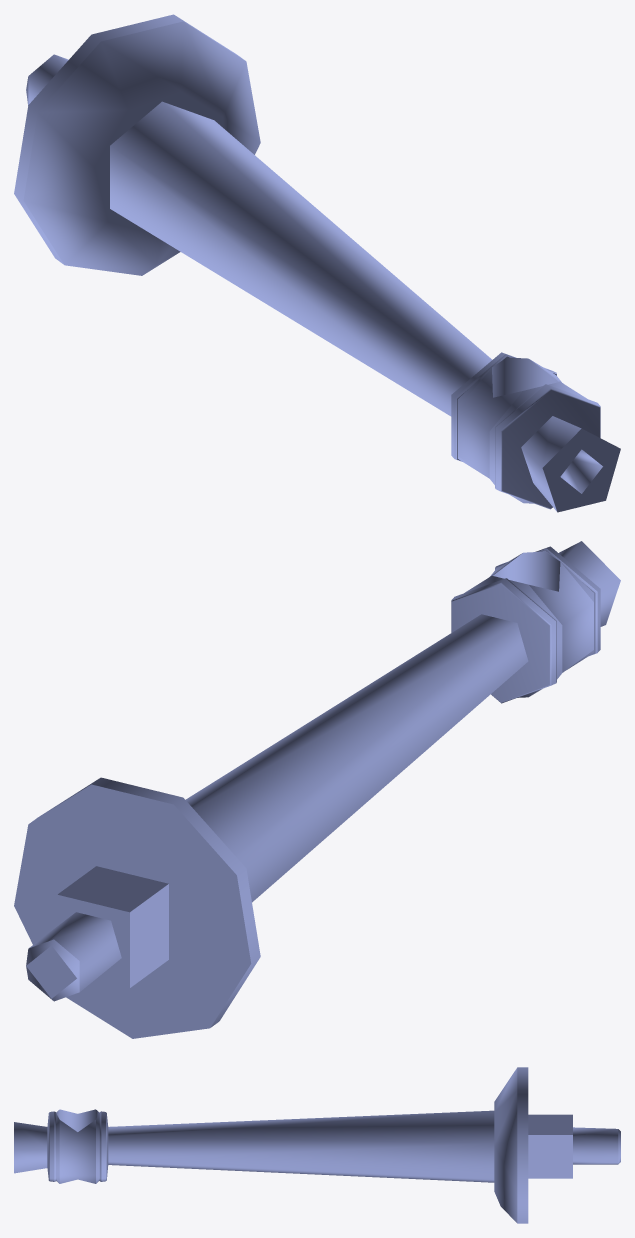
File: Copie de Piece pour roue dents^Copie de Assemb_pont_bas_suspension_Copie de ASS pilier 4_Horloge Comtoise Verge - Sonnerie.obj
3 renders of one model, top to bottom at view 1: azimuth 30°, elevation 25°; view 2: azimuth 150°, elevation 25°; view 3: azimuth 270°, elevation 25°, orthographic. The views are drawn at different scales.
Visible parts, largest first — view 1: Face_1, Face_5, Face_30, Face_7, Face_32, Face_18, Face_3, Face_31, Face_22, Face_33, Face_28, Face_20 (+1 smaller); view 2: Face_1, Face_9, Face_2, Face_7, Face_20, Face_18, Face_12, Face_11, Face_17, Face_31, Face_22, Face_26 (+3 smaller); view 3: Face_1, Face_5, Face_19, Face_14, Face_7, Face_20, Face_31, Face_11, Face_22, Face_28, Face_6, Face_16 (+1 smaller).
Boxes of the visible parts, x1,y1,x2,y2 form: Face_1: [110, 101, 492, 416]; Face_5: [23, 21, 260, 275]; Face_30: [502, 390, 600, 508]; Face_7: [14, 14, 243, 264]; Face_32: [542, 428, 620, 512]; Face_18: [458, 368, 522, 478]; Face_3: [95, 91, 223, 232]; Face_31: [521, 416, 581, 511]; Face_22: [492, 357, 559, 397]; Face_33: [560, 449, 602, 493]; Face_28: [495, 384, 599, 490]; Face_20: [28, 54, 68, 104]; Face_1: [185, 614, 528, 902]; Face_9: [14, 784, 251, 1038]; Face_2: [451, 584, 549, 702]; Face_7: [31, 777, 260, 1027]; Face_20: [29, 912, 121, 991]; Face_18: [529, 562, 593, 672]; Face_12: [130, 884, 168, 987]; Face_11: [58, 866, 168, 912]; Face_17: [57, 894, 129, 988]; Face_31: [559, 541, 620, 626]; Face_22: [492, 551, 560, 591]; Face_26: [26, 945, 76, 998]; Face_1: [108, 1110, 494, 1182]; Face_5: [494, 1068, 517, 1222]; Face_19: [59, 1120, 95, 1183]; Face_14: [528, 1135, 572, 1178]; Face_7: [517, 1067, 528, 1223]; Face_20: [573, 1127, 618, 1164]; Face_31: [14, 1122, 47, 1173]; Face_11: [528, 1114, 572, 1134]; Face_22: [56, 1109, 99, 1131]; Face_28: [49, 1111, 54, 1181]; Face_6: [101, 1111, 105, 1181]; Face_16: [96, 1113, 99, 1183].
Bounding box in the file's own units: 0.0144 × 0.0142 × 0.0556.
